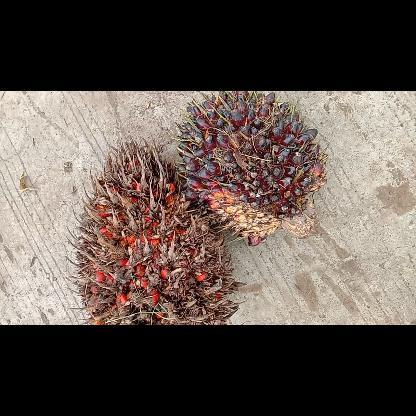TBS mentah: (173, 90, 327, 246)
Terlalu masak: (68, 136, 244, 324)
